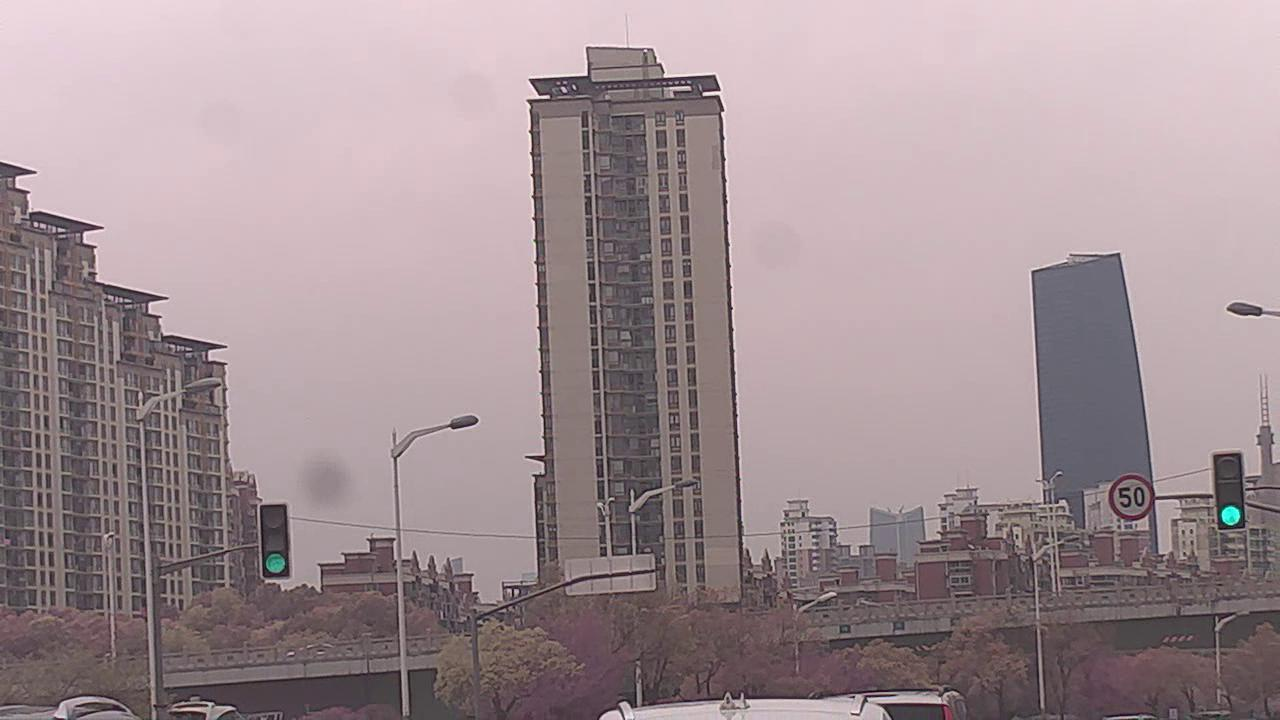traffic_light: (259, 501, 294, 580), (1214, 450, 1249, 528)
